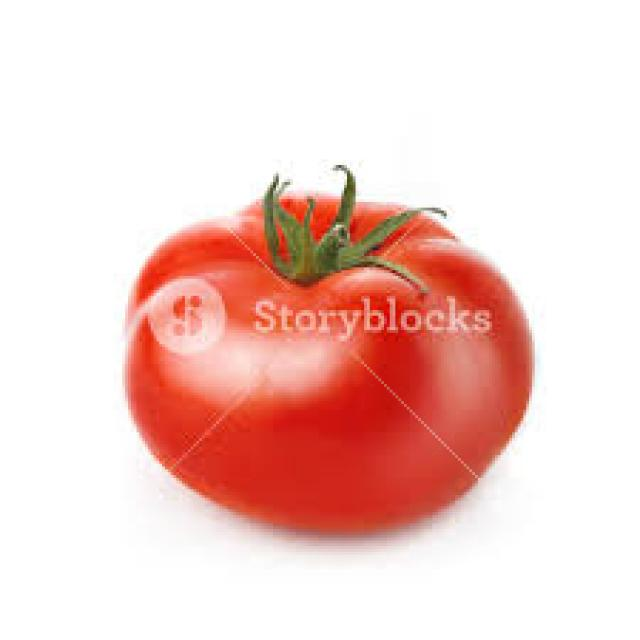organic waste: (125, 162, 529, 532)
